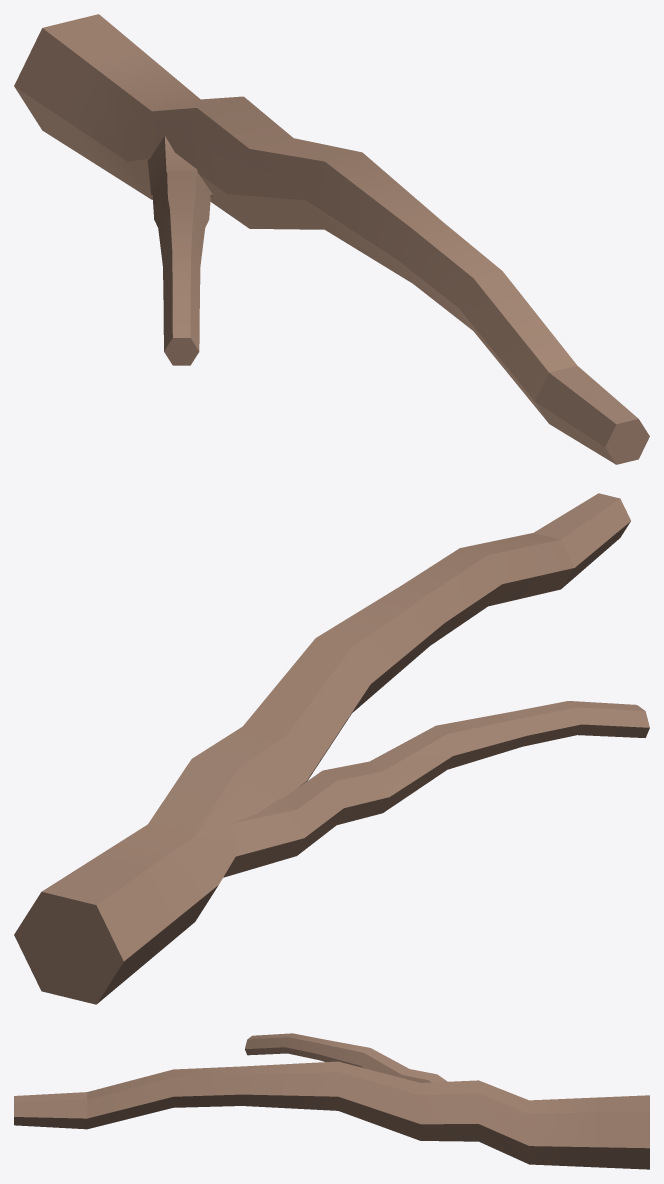
The model's file is tak1.fbx.
3 views of the same model, one above another, from view 1: azimuth 30°, elevation 25°; view 2: azimuth 150°, elevation 25°; view 3: azimuth 270°, elevation 25° (orthographic). The views are drawn at different scales.
Visible parts, largest first — view 1: pCylinder4; view 2: pCylinder4; view 3: pCylinder4.
Boxes of the visible parts, bbox=[...] form: pCylinder4: bbox=[14, 14, 649, 464]; pCylinder4: bbox=[14, 493, 649, 1004]; pCylinder4: bbox=[14, 1033, 649, 1169].
Bounding box in the file's own units: 1.41 × 0.7248 × 4.4.
